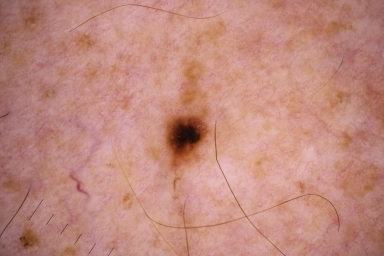melanoma: (167, 117, 206, 155)
